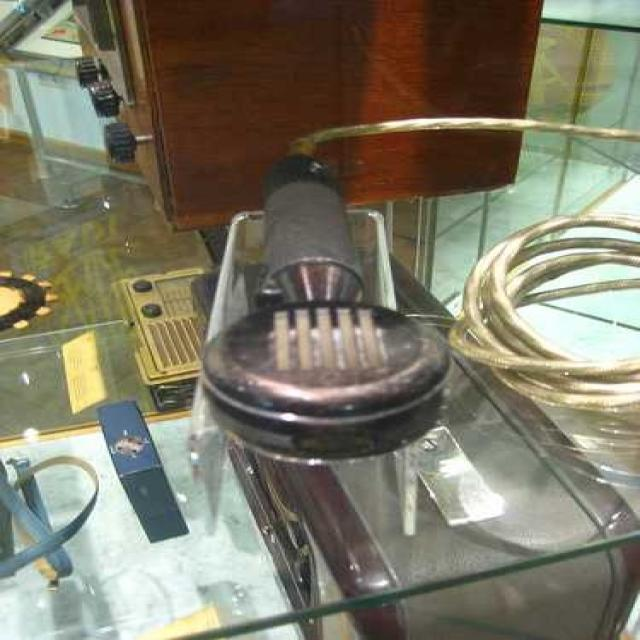microphone: (200, 154, 450, 461)
